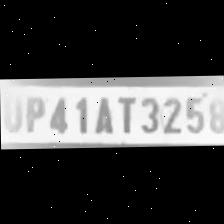1: (69, 94, 91, 133)
2: (158, 93, 182, 134)
3: (135, 94, 159, 133)
4: (43, 92, 69, 134)
5: (180, 93, 204, 134)
8: (206, 92, 222, 132)
A: (90, 92, 114, 134)
P: (19, 94, 44, 133)
T: (112, 92, 136, 134)
U: (0, 91, 20, 133)
